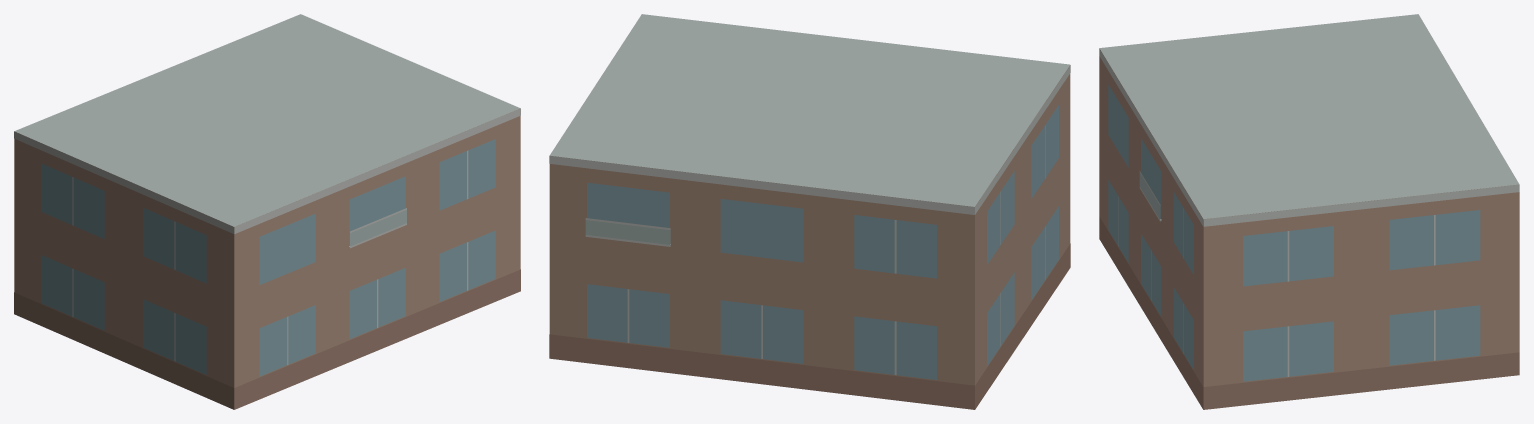
Rendered from survey-upis-32968273.glb.
The picture shows the model from 3 angles, left to right: view 1: azimuth 30°, elevation 25°; view 2: azimuth 150°, elevation 25°; view 3: azimuth 270°, elevation 25°; orthographic projection. The views are drawn at different scales.
Parts seen in each view (by area): view 1: survey-upis-32968273.tmp; view 2: survey-upis-32968273.tmp; view 3: survey-upis-32968273.tmp.
Part boxes in pixels (x1,y1,x2,y2): survey-upis-32968273.tmp: (14, 14, 520, 409); survey-upis-32968273.tmp: (549, 14, 1070, 409); survey-upis-32968273.tmp: (1099, 14, 1519, 409).
Bounding box in the file's own units: 14.09 × 6.1 × 12.2.
